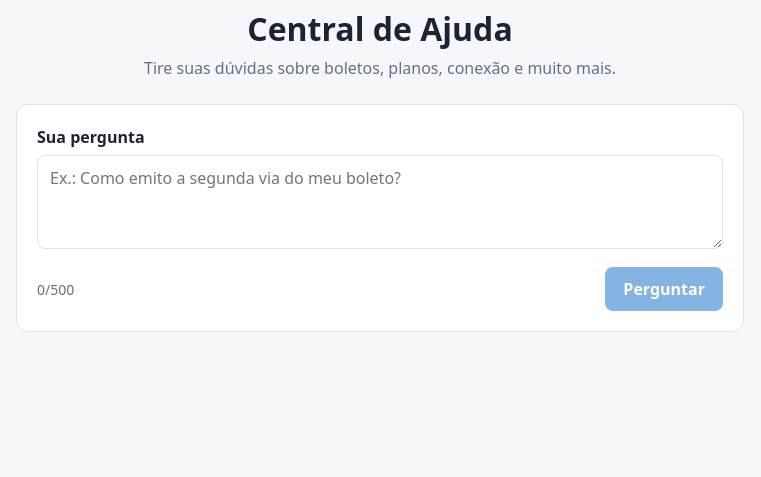
Test: AskPage › mostra a resposta e o artigo usado
In the text box labelled "Sua pergunta": (380, 202) 37,155 -> 723,249, type "Como pego a segunda via?"
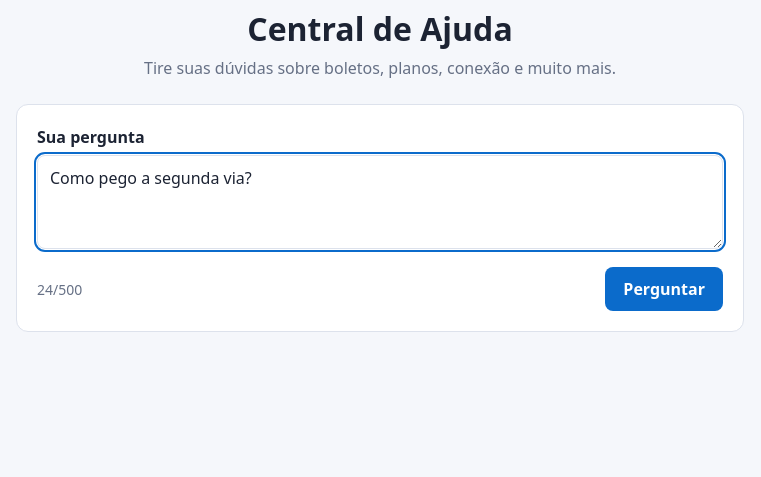
Click the button "Perguntar": (664, 289) 605,267 -> 723,311
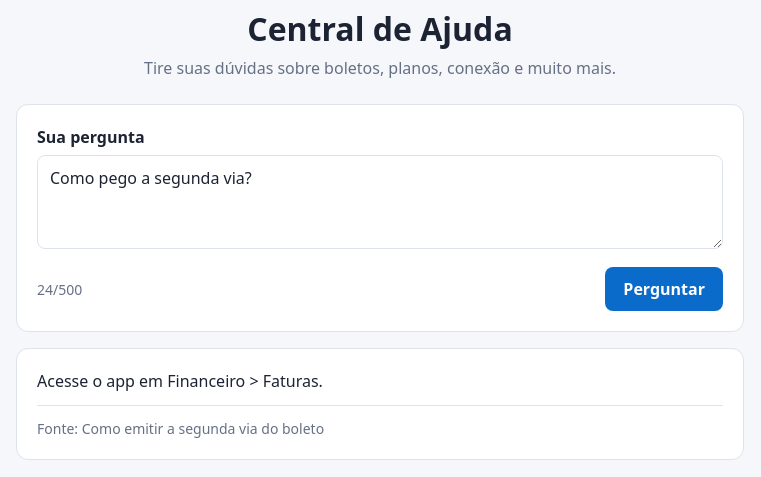
Expected: the text "Acesse o app em Financeiro > Faturas." is shown, 37,370 -> 323,392
Expected: the text "Fonte: Como emitir a segunda via do boleto" is shown, 37,405 -> 723,439
